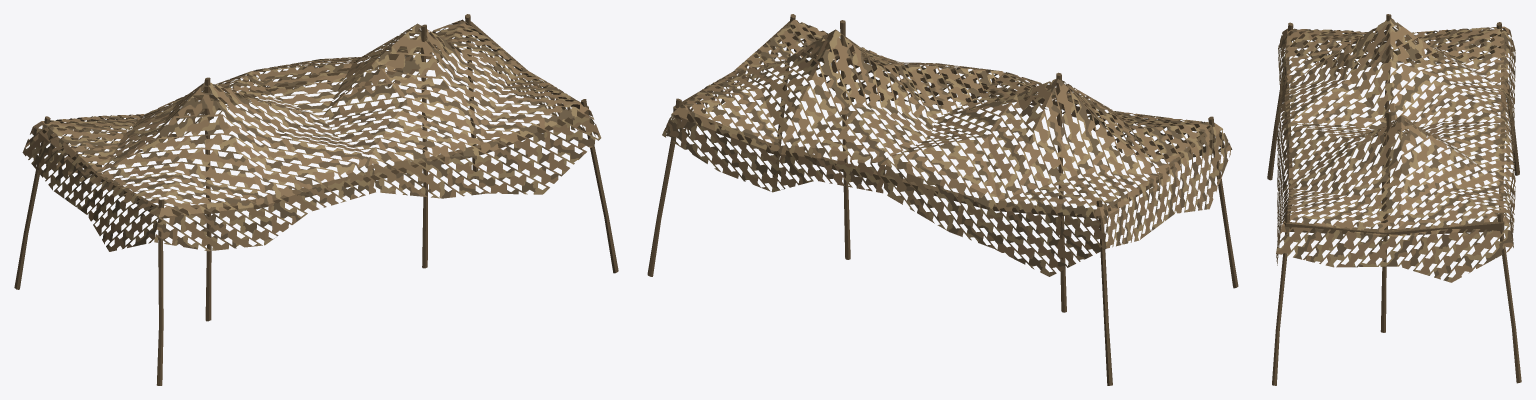
File: SM_Bld_CamoNet_Tent_04.glb
3 views of the same model, side by side, from view 1: azimuth 30°, elevation 25°; view 2: azimuth 150°, elevation 25°; view 3: azimuth 270°, elevation 25° (orthographic). The views are drawn at different scales.
Parts seen in each view (by area): view 1: SM_Bld_CamoNet_Tent_04; view 2: SM_Bld_CamoNet_Tent_04; view 3: SM_Bld_CamoNet_Tent_04.
Boxes of the visible parts, bbox=[...] form: SM_Bld_CamoNet_Tent_04: bbox=[14, 14, 618, 385]; SM_Bld_CamoNet_Tent_04: bbox=[647, 14, 1238, 385]; SM_Bld_CamoNet_Tent_04: bbox=[1267, 14, 1521, 385].
Bounding box in the file's own units: 8.39 × 4.06 × 4.23.
2 materials, 2 textured.
